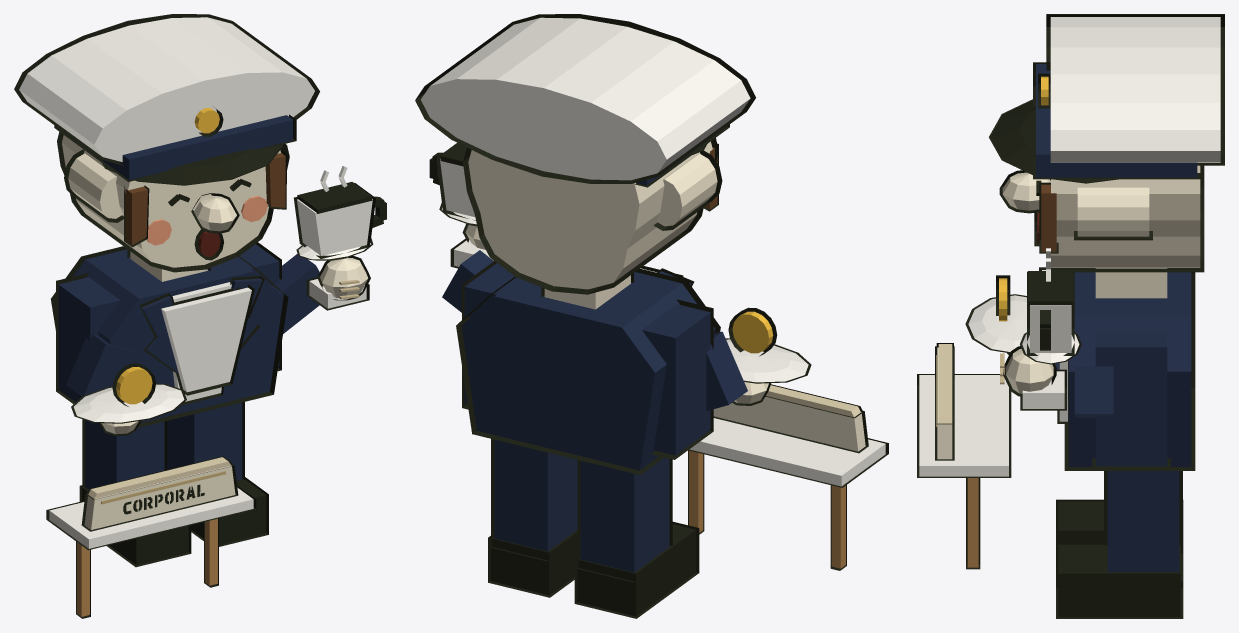
The picture shows the model from 3 angles, left to right: view 1: azimuth 30°, elevation 25°; view 2: azimuth 150°, elevation 25°; view 3: azimuth 270°, elevation 25°; orthographic projection. The views are drawn at different scales.
Parts seen in each view (by area): view 1: Link Marine; view 2: Link Marine; view 3: Link Marine.
Boxes of the visible parts, x1,y1,x2,y2 form: Link Marine: (14, 14, 386, 618); Link Marine: (415, 14, 888, 618); Link Marine: (917, 14, 1224, 618).
Size of the model in its own units: 0.7725 by 0.9942 by 0.5155.
